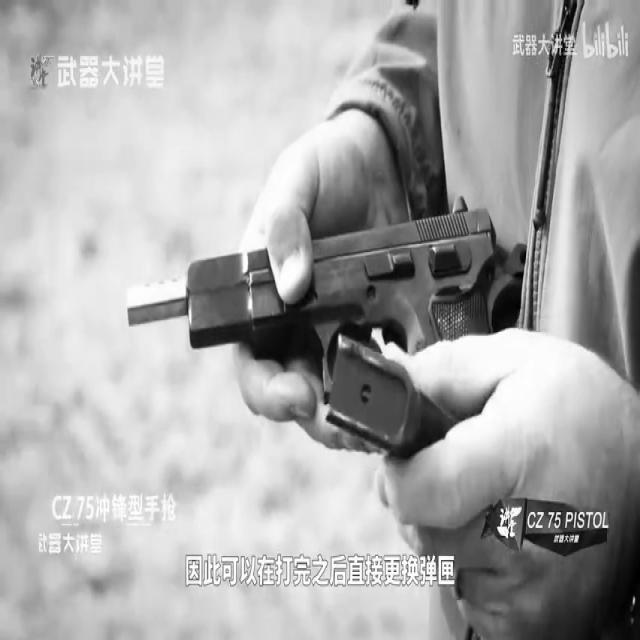Hand-Gun: (98, 55, 565, 581)
